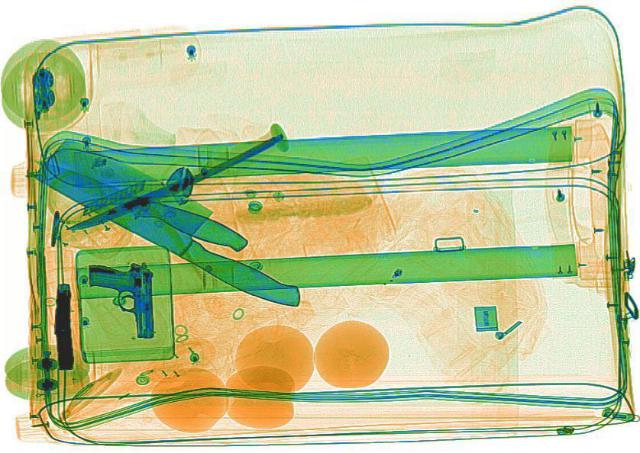Gun: (86, 260, 156, 339), (50, 282, 72, 369)
Knife: (14, 135, 342, 312), (22, 146, 252, 253), (60, 133, 290, 232)
